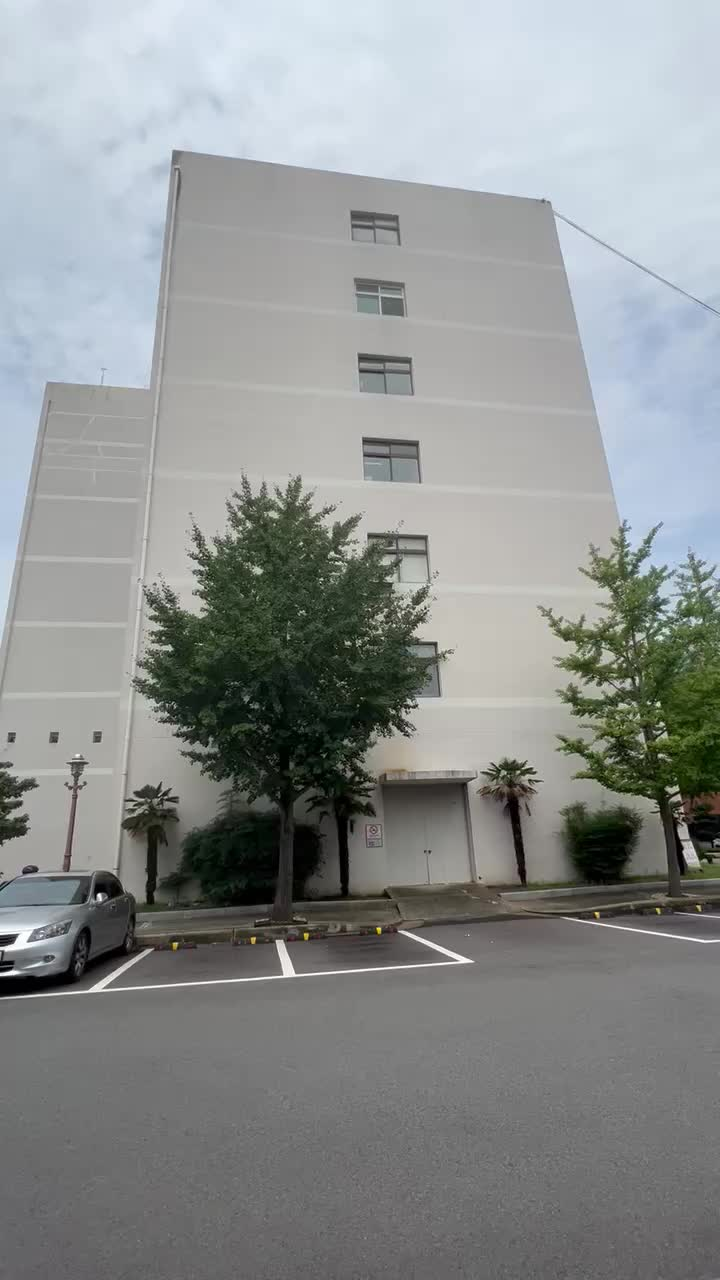low: (88, 138, 610, 508)
